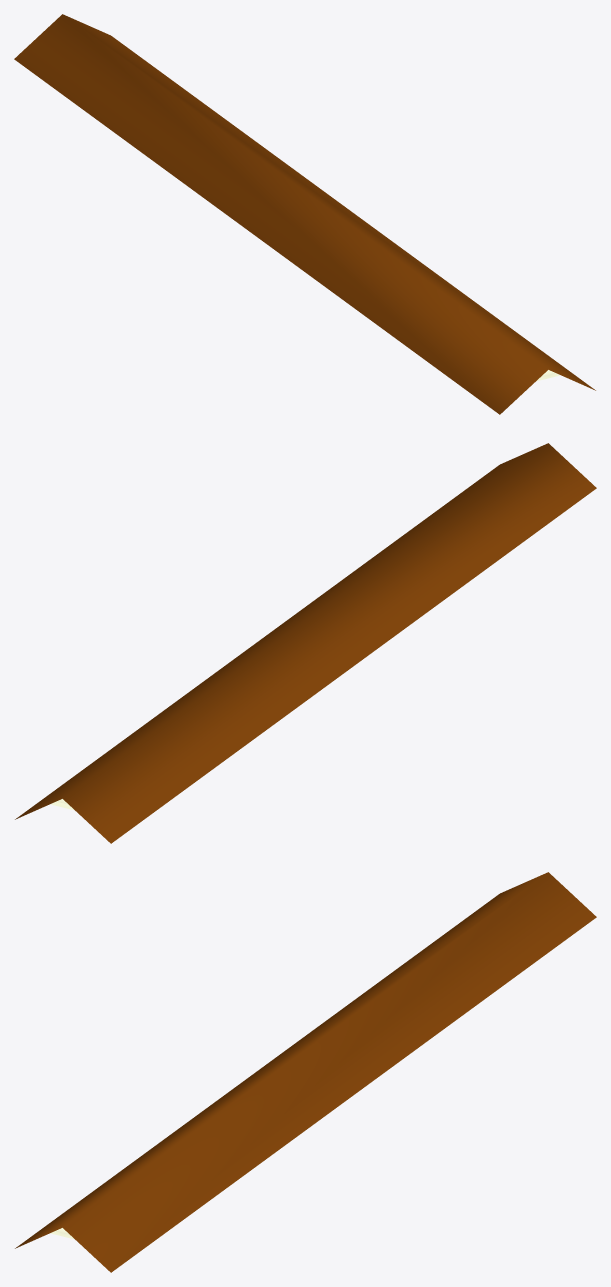
The model's file is Barrier_Light.glb.
3 views of the same model, one above another, from view 1: azimuth 30°, elevation 25°; view 2: azimuth 150°, elevation 25°; view 3: azimuth 330°, elevation 25° (orthographic).
Parts seen in each view (by area): view 1: Plane.001; view 2: Plane.001; view 3: Plane.001.
Boxes of the visible parts, left/top/right/bottom form: Plane.001: left=14, top=14, right=595, bottom=414; Plane.001: left=15, top=443, right=596, bottom=843; Plane.001: left=15, top=872, right=596, bottom=1272.
Size of the model in its own units: 0.1722 by 0.0564 by 1.49.
